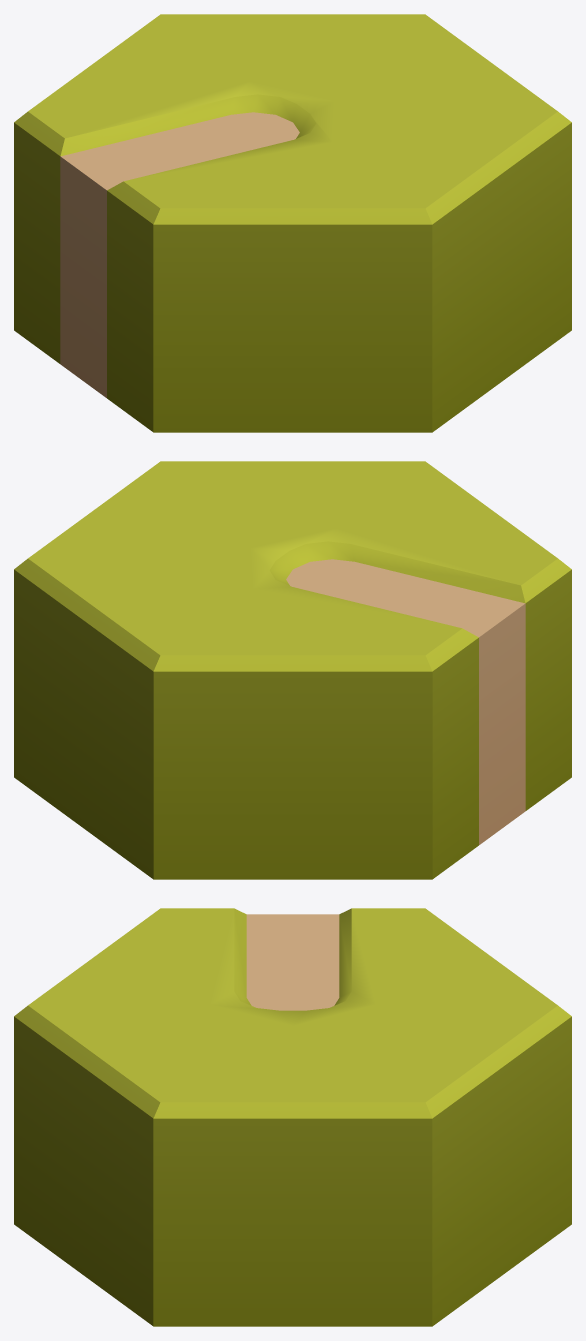
Rendered from path-crossing.glb.
3 renders of one model, top to bottom at view 1: azimuth 30°, elevation 25°; view 2: azimuth 150°, elevation 25°; view 3: azimuth 270°, elevation 25°, orthographic.
Parts seen in each view (by area): view 1: hex_road_M; view 2: hex_road_M; view 3: hex_road_M.
Part boxes in pixels (x1,y1,x2,y2): hex_road_M: [14, 14, 571, 432]; hex_road_M: [14, 461, 571, 879]; hex_road_M: [14, 908, 571, 1326].
Size of the model in its own units: 2 by 1 by 2.31.
1 material, 1 textured.
